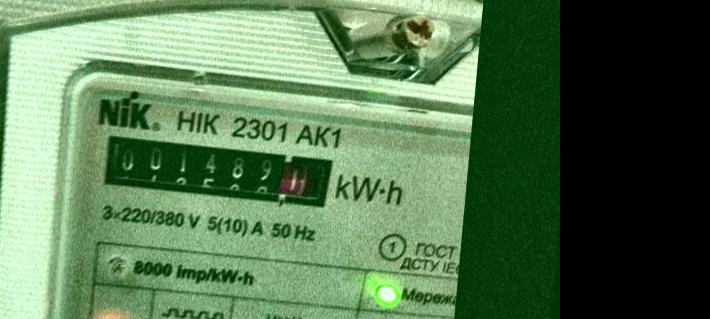0: (145, 143, 164, 170), (118, 145, 135, 171)
1: (174, 145, 191, 175), (285, 161, 300, 192)
4: (201, 148, 219, 176)
8: (227, 151, 246, 179)
9: (256, 156, 273, 182)
screen: (86, 122, 348, 221)
